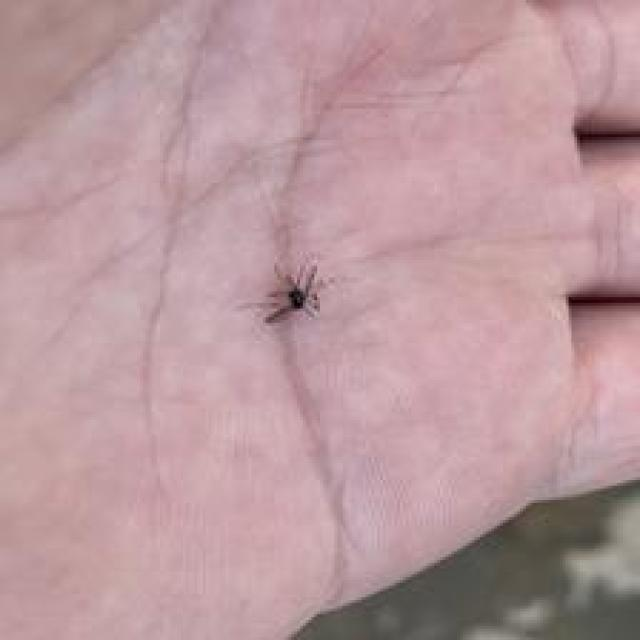Aedes albopictus: (247, 260, 333, 326)
